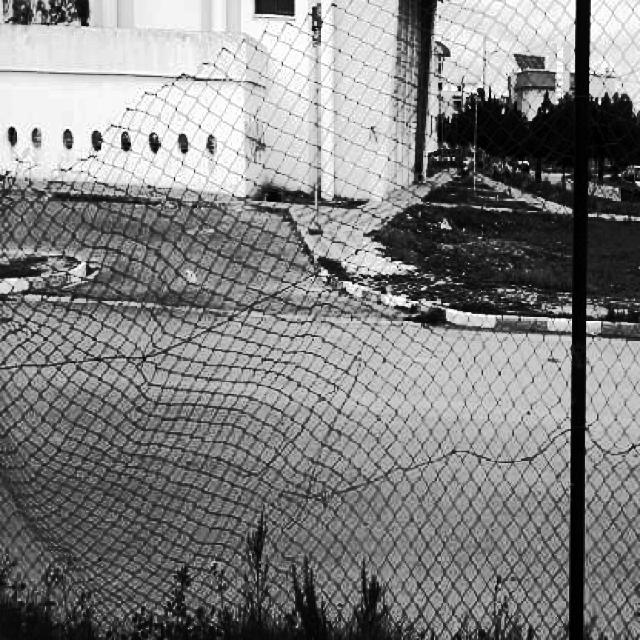anomaly-fence: (0, 0, 320, 194)
